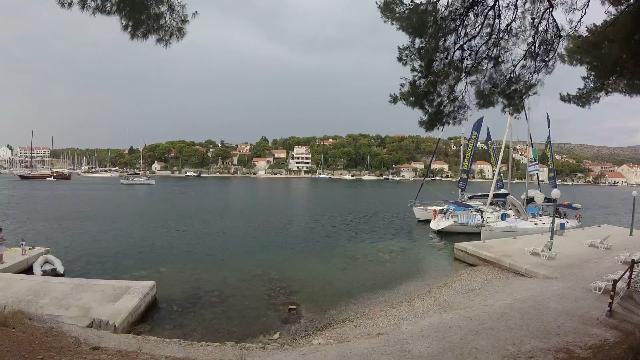Freighter: (9, 158, 76, 184)
Sailboat: (115, 170, 159, 188)
